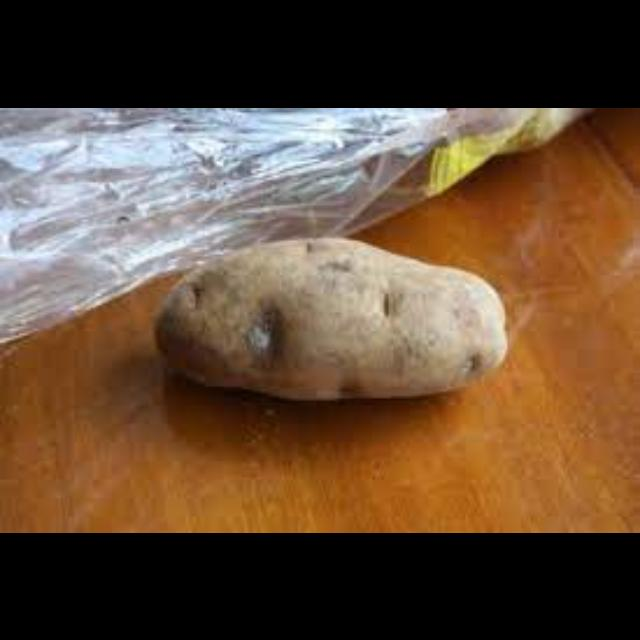Diseased-fungal potato: (147, 230, 507, 400)
